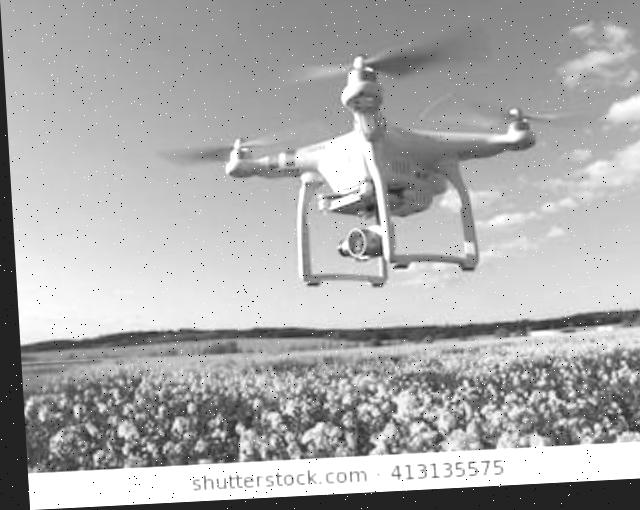drone: (140, 8, 608, 314)
